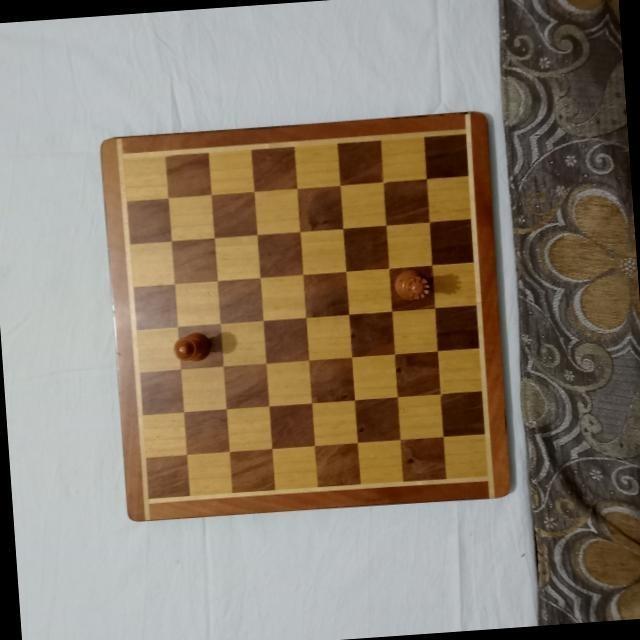white-king: (171, 329, 214, 363)
white-queen: (391, 268, 435, 304)
